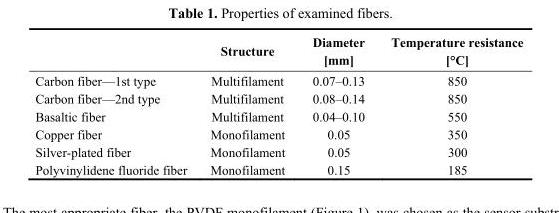table: (34, 34, 522, 176)
table column: (34, 34, 197, 176), (377, 34, 522, 176), (197, 34, 298, 176), (298, 34, 377, 176)
table column header: (34, 34, 522, 69)
table row: (34, 34, 522, 69), (34, 69, 522, 89), (34, 89, 522, 107), (34, 124, 522, 142), (34, 142, 522, 160), (34, 107, 522, 124), (34, 160, 522, 176)
